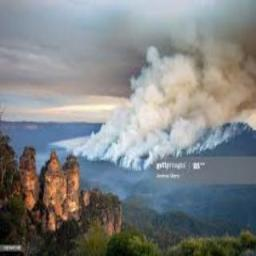Heavy smoke: (52, 23, 256, 174)
